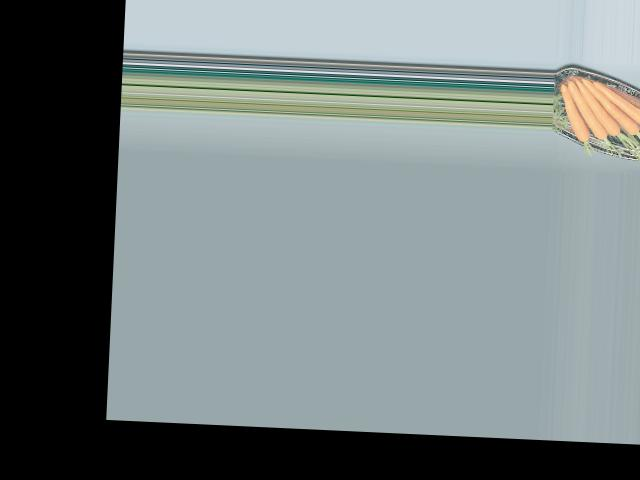carrot: (557, 83, 587, 141)
